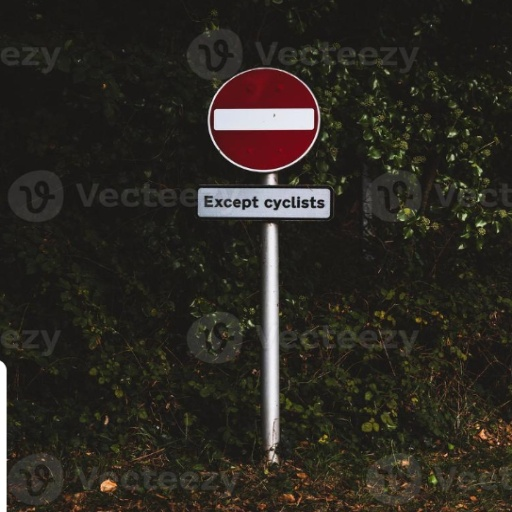No entry: (201, 66, 324, 175)
